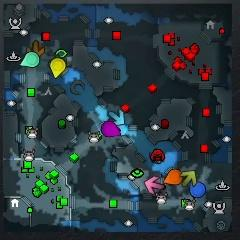p1: (189, 181, 205, 198)
p2: (20, 52, 40, 67)
p3: (102, 121, 121, 137)
p4: (50, 58, 66, 79)
p5: (165, 169, 183, 185)
x1: (144, 175, 164, 194)
x2: (181, 171, 197, 187)
x3: (108, 109, 124, 125)
x5: (27, 40, 45, 57)
